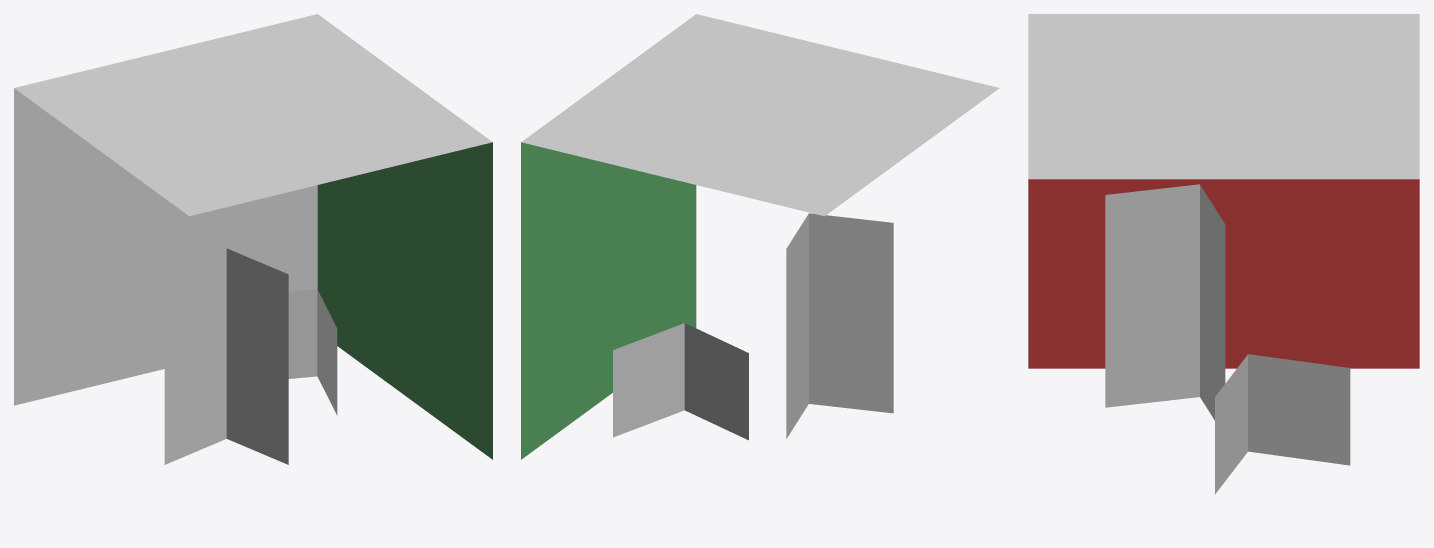
Rendered from cornell_quads.gltf.
3 views of the same model, side by side, from view 1: azimuth 30°, elevation 25°; view 2: azimuth 150°, elevation 25°; view 3: azimuth 270°, elevation 25° (orthographic). The views are drawn at different scales.
Bounding box in the file's own units: 2 × 2 × 2.
